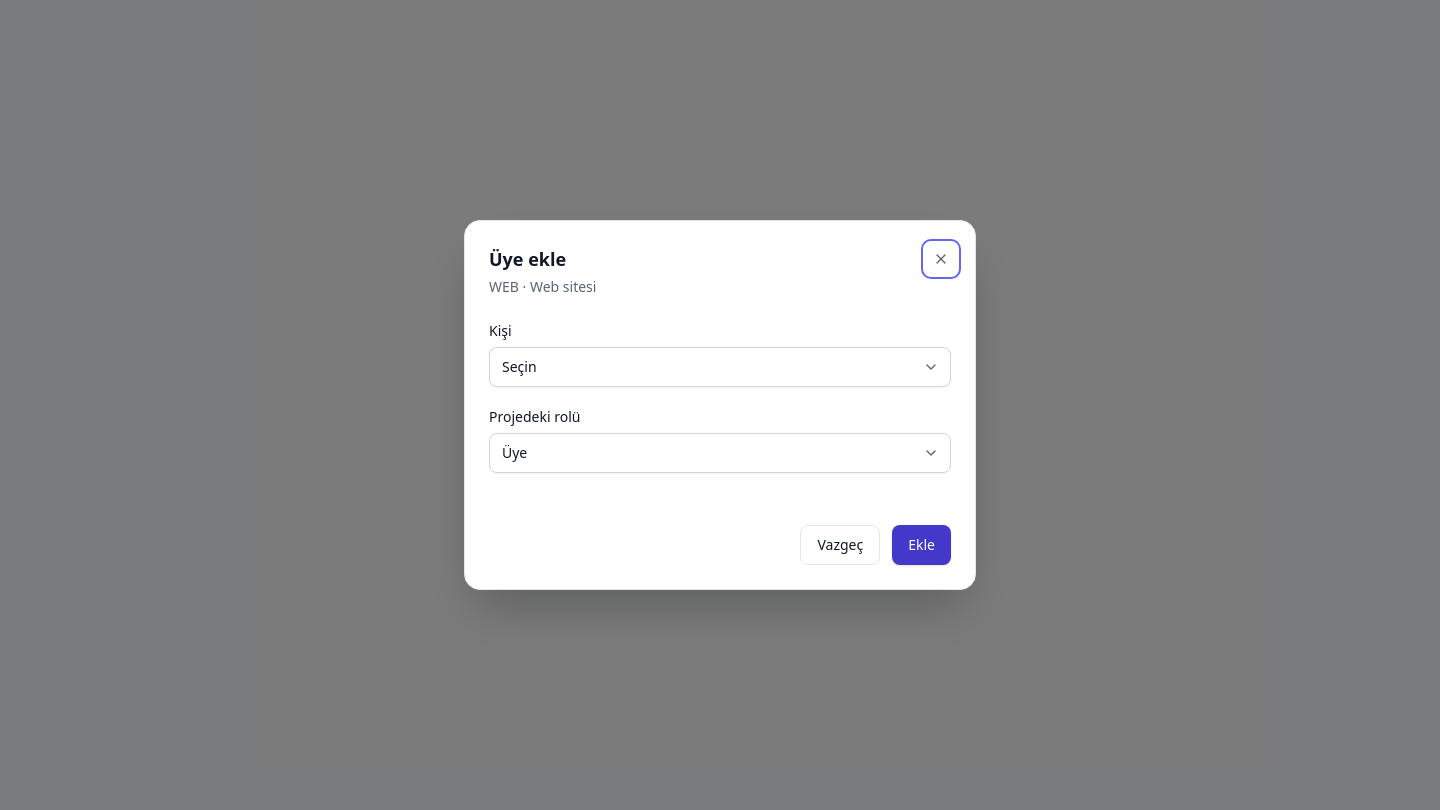
Test: AddMemberDialog › asks for a person before submitting
The image size is (1440, 810).
Click the button "Ekle" at (922, 545), box [892,525,951,565]
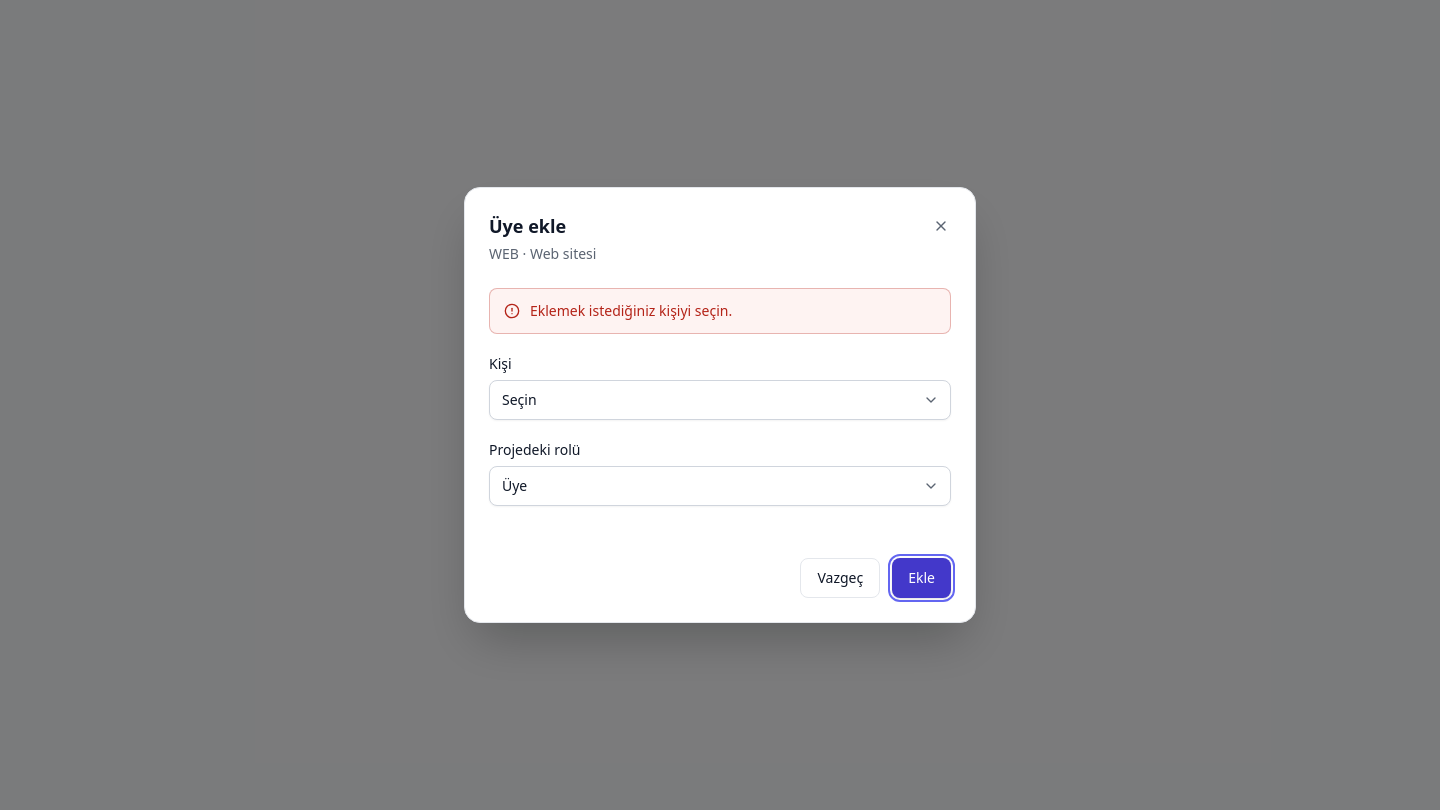
Now the text "Eklemek istediğiniz kişiyi seçin." is shown, box [530,301,732,321]
